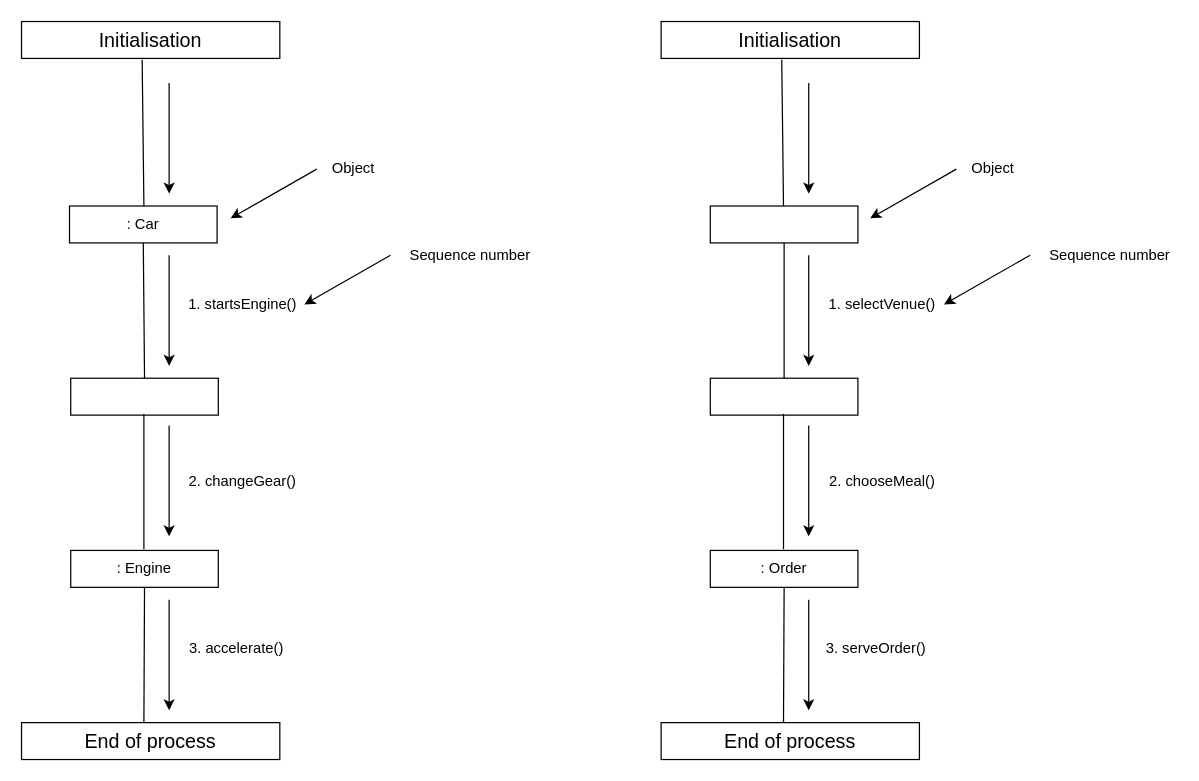
The diagram is 1199 pixels wide and 781 high, and some of its shapes have lost their labels. Each missing label, with the centre of its shape:
": Customer" belongs at (x=783, y=224).
": Food" belongs at (x=783, y=396).
": Gearbox" belongs at (x=143, y=396).
